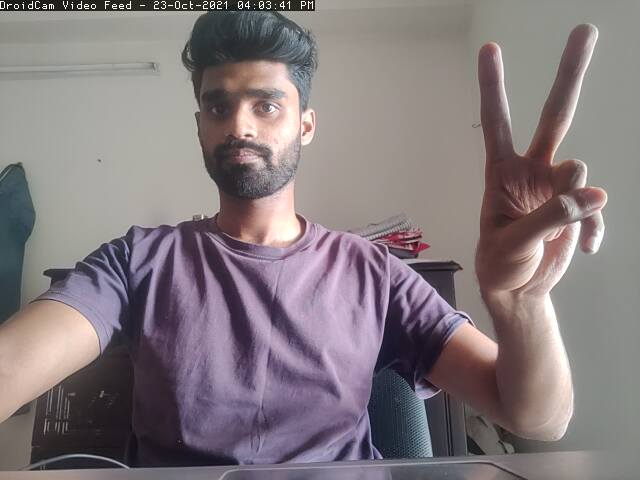Victory: (446, 14, 607, 301)
